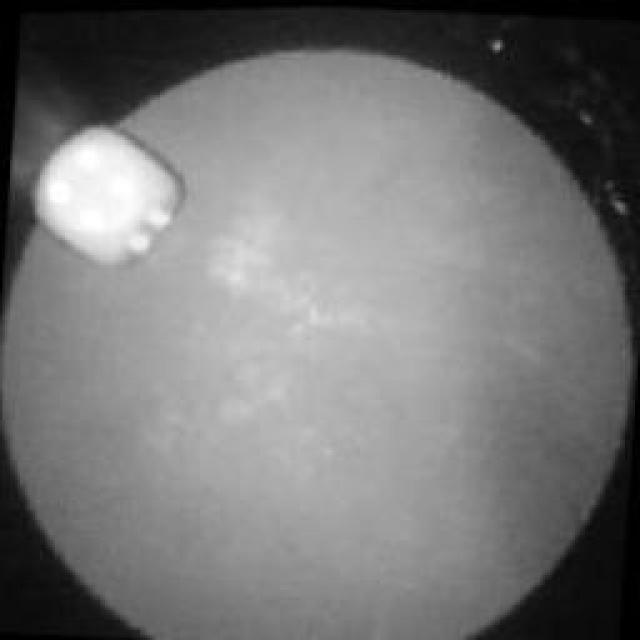dice_4: (18, 106, 188, 282)
